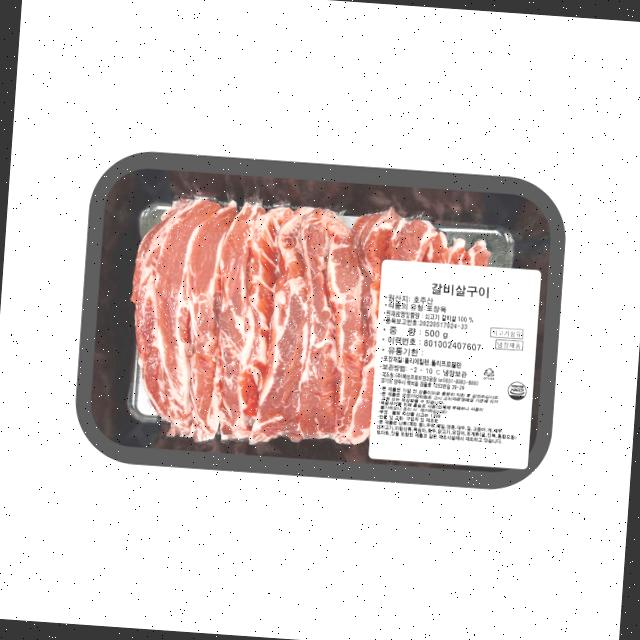meat: (41, 123, 596, 504)
